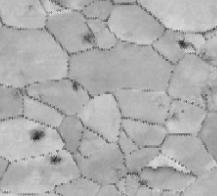good_void: (44, 151, 65, 168), (174, 39, 193, 54), (81, 31, 95, 44), (31, 129, 44, 143), (68, 80, 79, 91), (138, 178, 149, 186), (26, 2, 34, 13), (171, 113, 177, 119), (165, 116, 170, 123), (166, 108, 172, 113), (180, 109, 185, 114)
